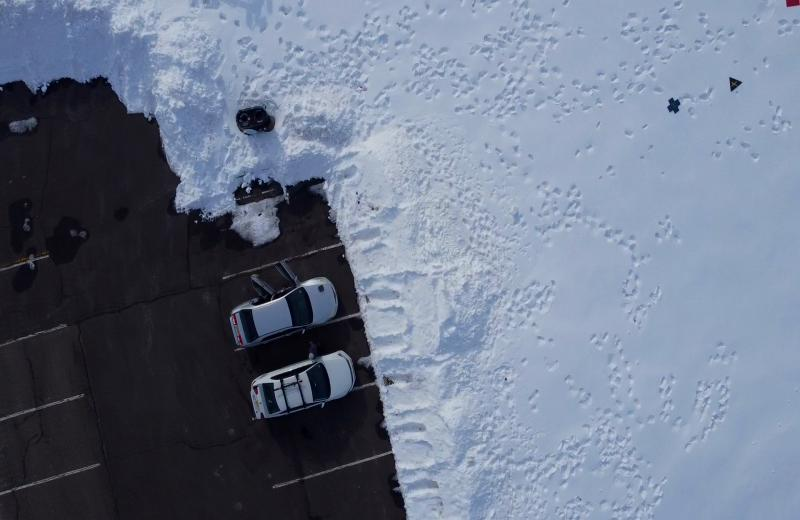Cross: (663, 95, 682, 114)
Rectangle: (784, 0, 800, 10)
Triangle: (729, 75, 743, 93)
